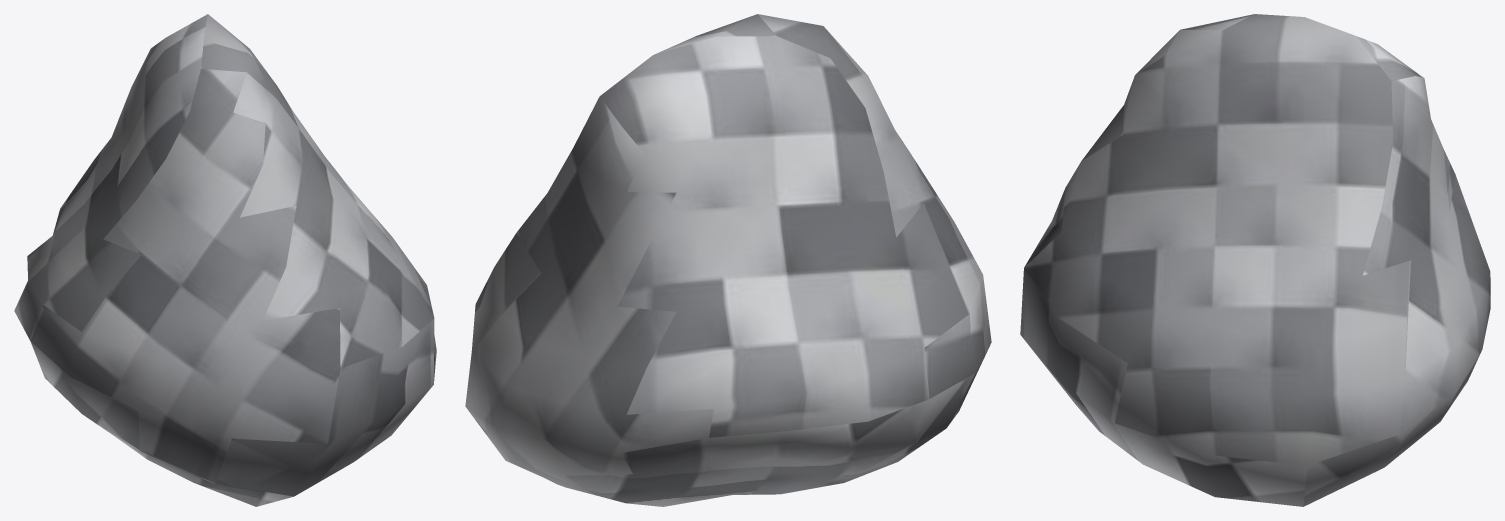
The model's file is Rock 02.fbx.
3 renders of one model, left to right at view 1: azimuth 30°, elevation 25°; view 2: azimuth 150°, elevation 25°; view 3: azimuth 270°, elevation 25°, orthographic. The views are drawn at different scales.
Visible parts, largest first — view 1: Rock.002; view 2: Rock.002; view 3: Rock.002.
Boxes of the visible parts, left/top/right/bottom form: Rock.002: left=14, top=14, right=436, bottom=506; Rock.002: left=465, top=14, right=991, bottom=506; Rock.002: left=1020, top=14, right=1490, bottom=506.
Bounding box in the file's own units: 0.9505 × 0.9847 × 0.9227.
